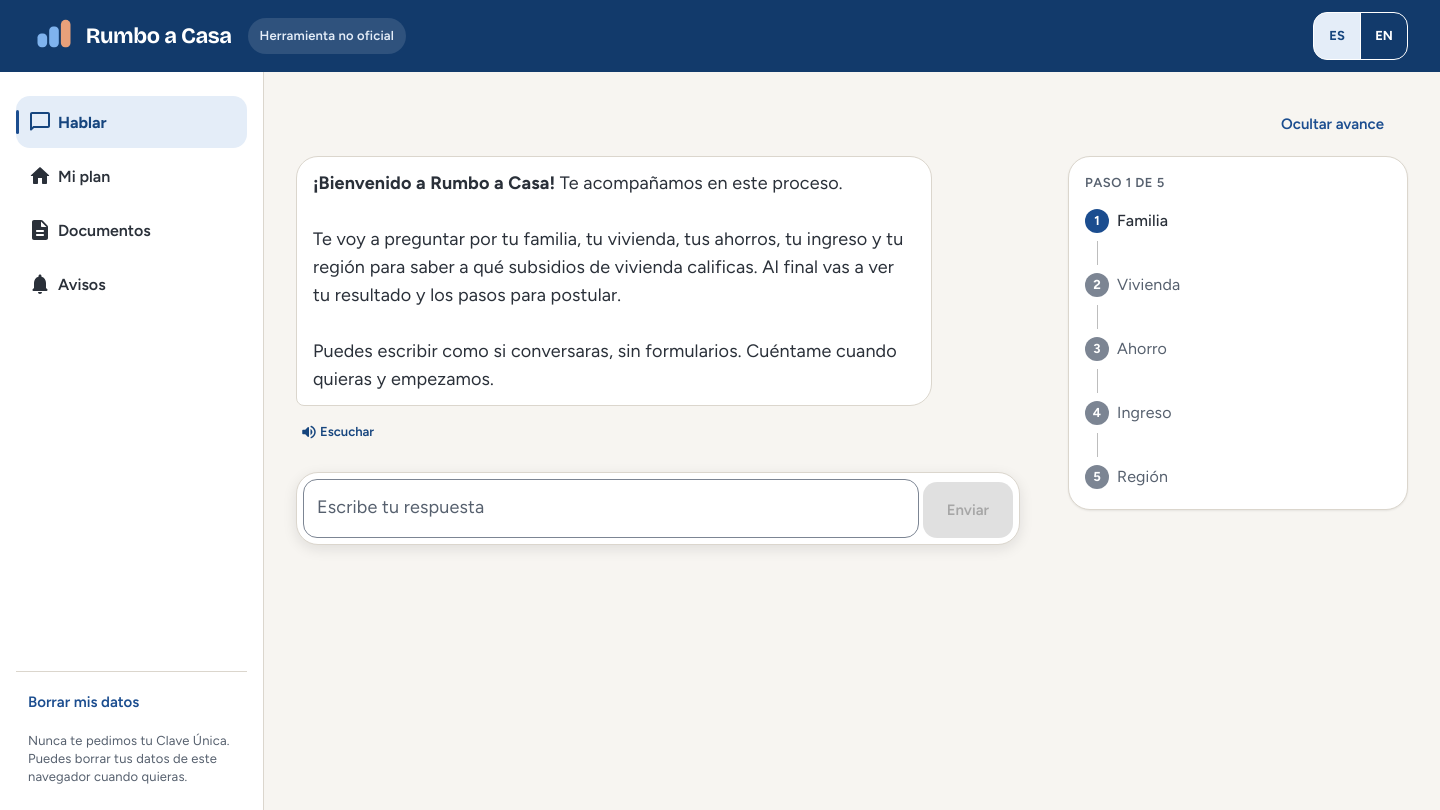
PantallaEntrevista › el indicador de pasos avanza cuando el motor ya no pide datos de un grupo
Expected: the text "Paso 1 de 5" is shown, [1085,175,1165,190]
Type "Hola" into the field labelled "Escribe tu respuesta" at (611, 508), box [303,479,919,538]
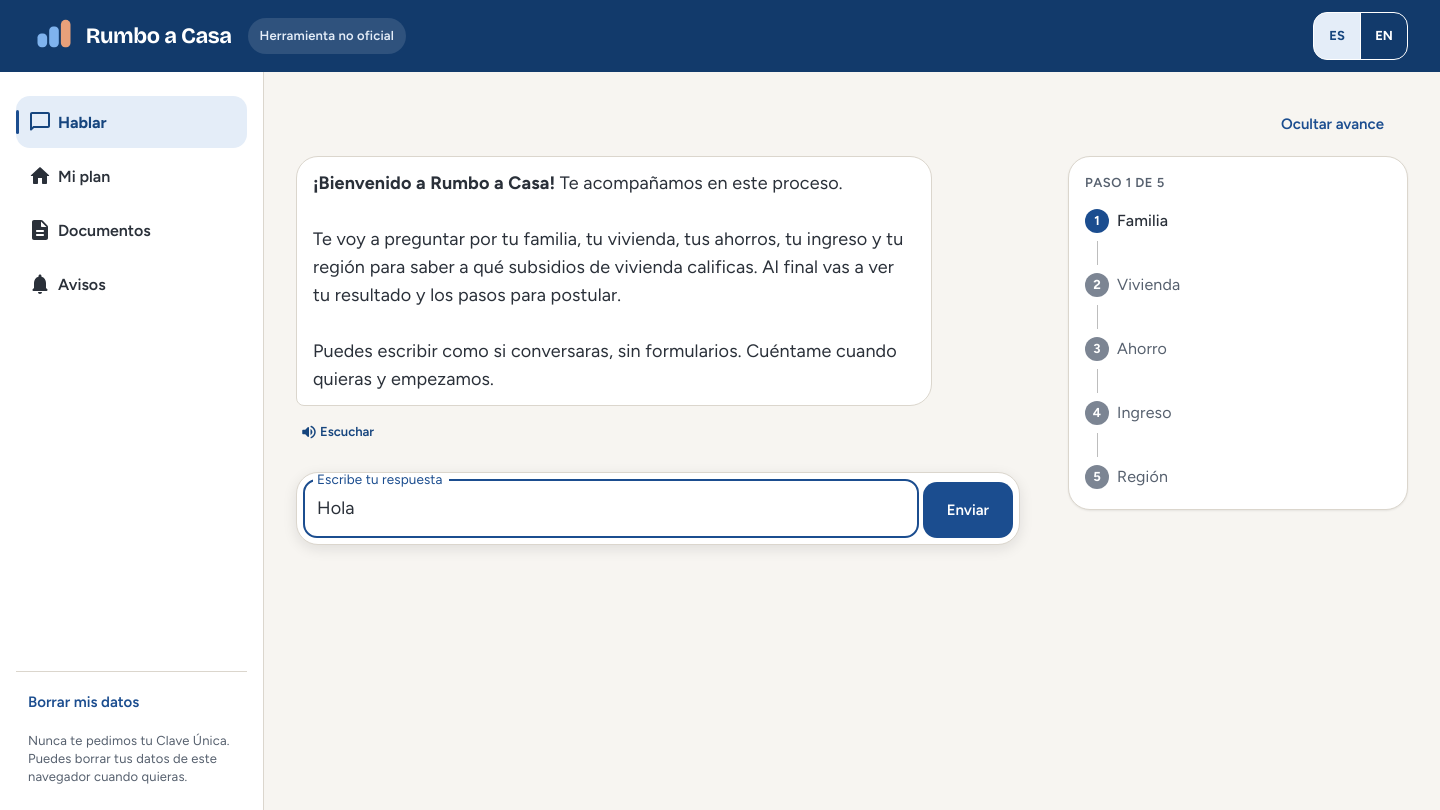
Click the button "Enviar" at (968, 510), box [923,482,1013,538]
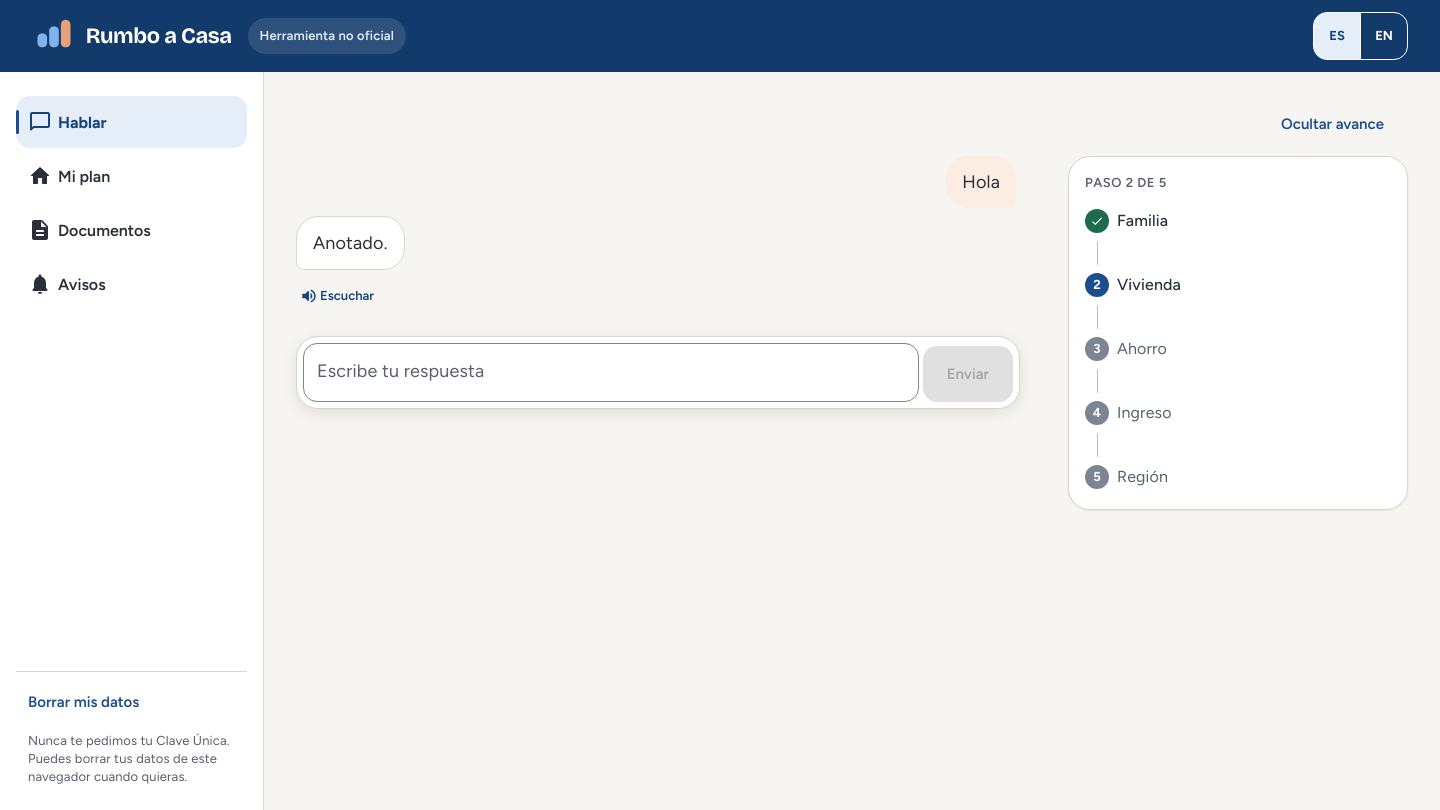
Expected: the text "Paso 2 de 5" is shown, [1085,175,1167,190]
